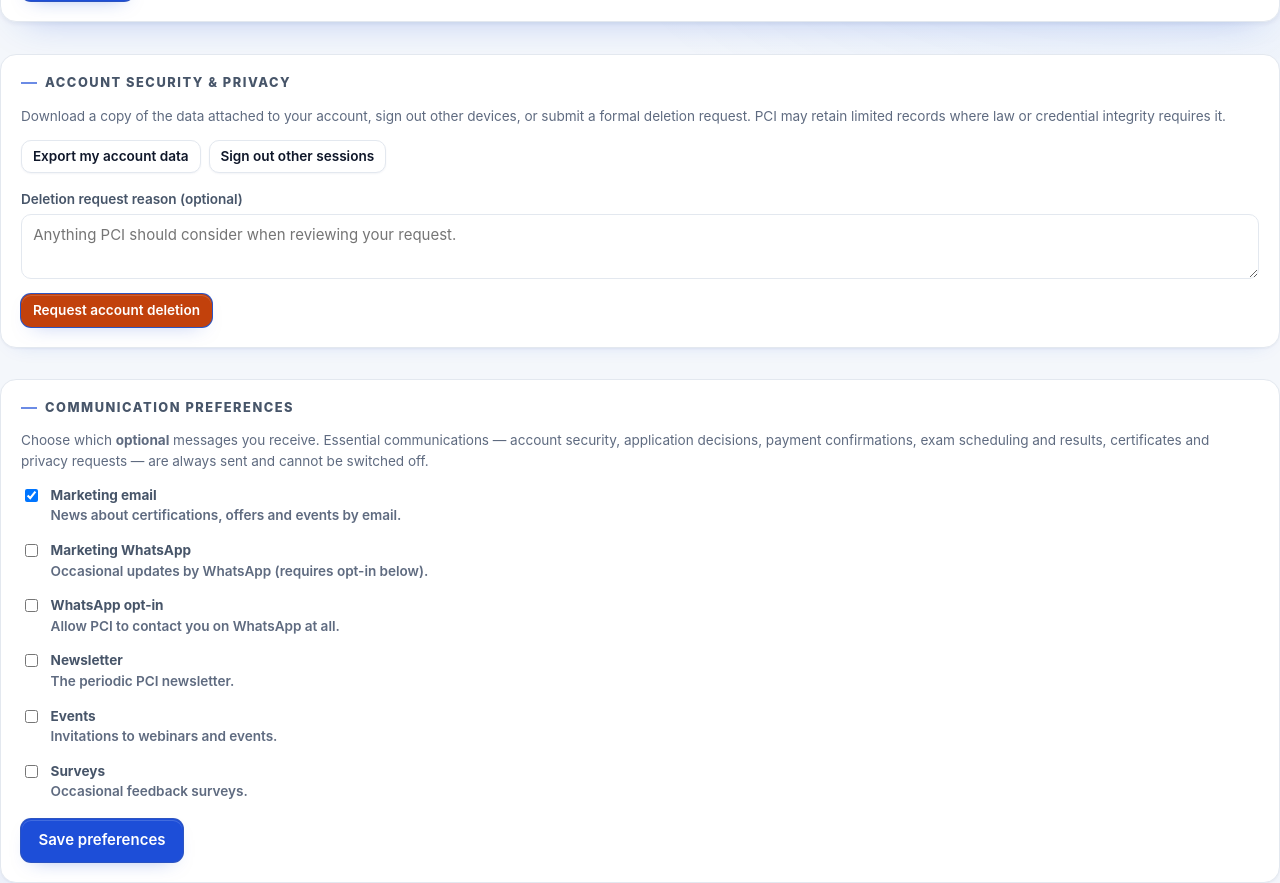
Test: Profile › communication preferences › toggles an optional channel and POSTs the full preference map
The image size is (1280, 883).
(page scrolled)
Click the checkbox labelled "Newsletter": (32, 661) [25,654,38,667]
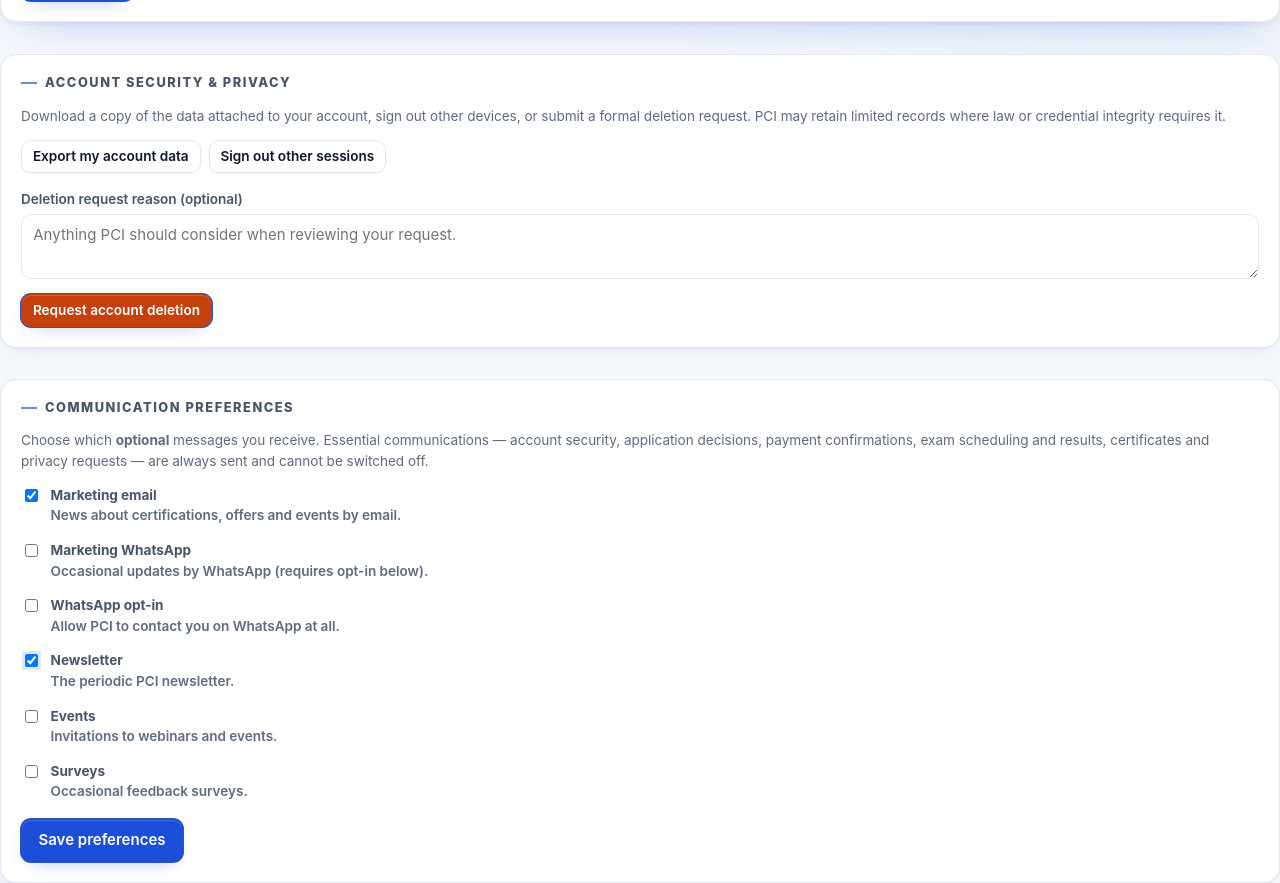
expect the checkbox labelled "Newsletter" is checked: met, box [25,654,38,667]
Click the button "Save preferences": (102, 840) [21,819,183,862]
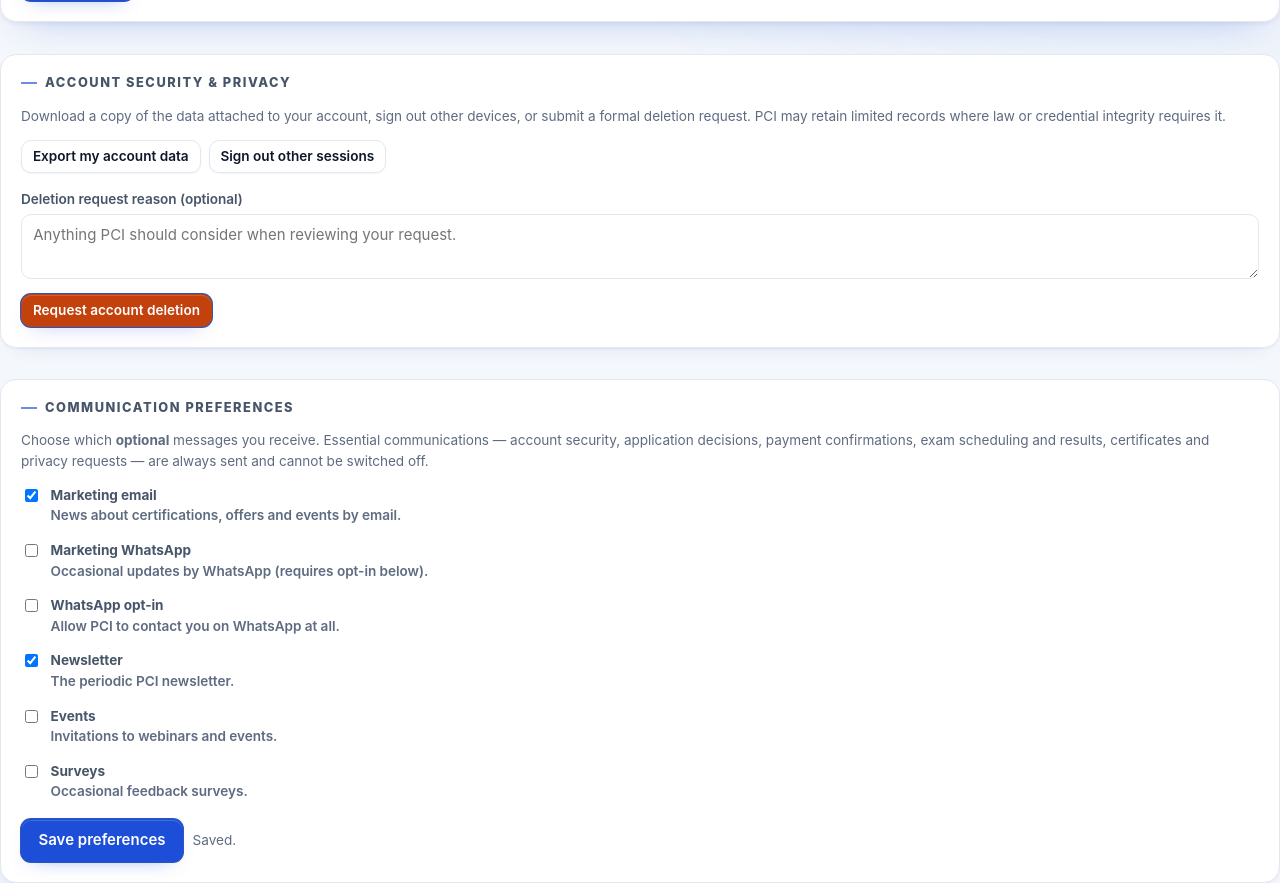
expect the text "Saved." is shown: met, box [193,832,236,848]
